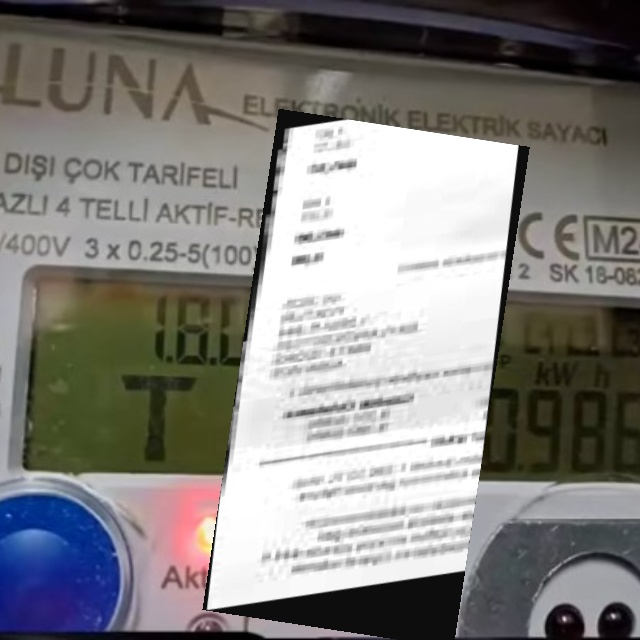electricity-bill: (202, 108, 530, 640)
